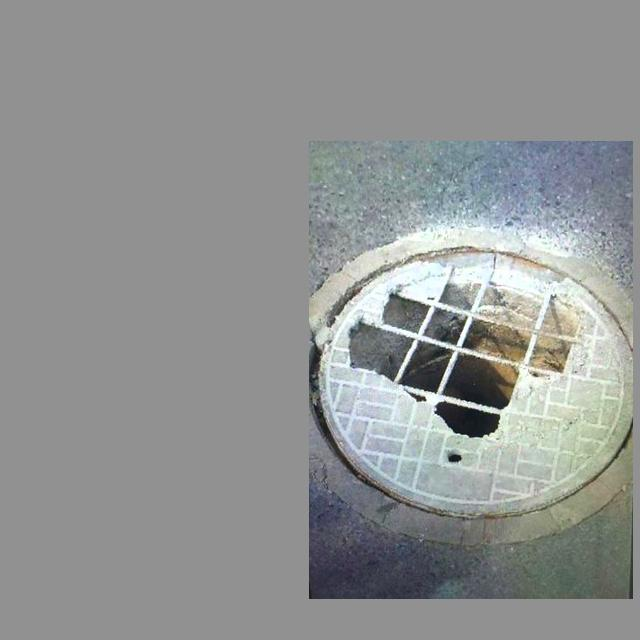broke: (315, 206, 630, 538)
